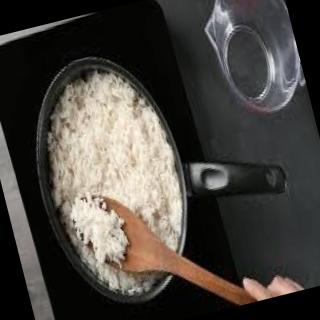Nasi: (23, 56, 204, 309), (66, 186, 136, 276)
